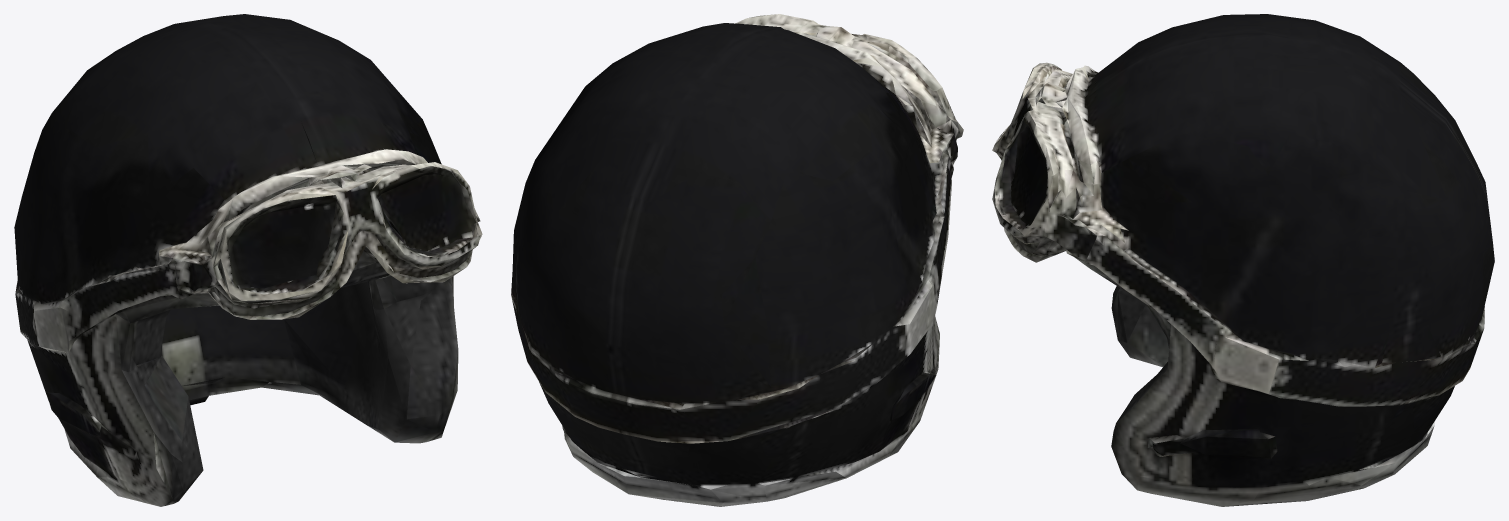
Rendered from aviator_helmet.glb.
3 views of the same model, side by side, from view 1: azimuth 30°, elevation 25°; view 2: azimuth 150°, elevation 25°; view 3: azimuth 270°, elevation 25° (orthographic). The views are drawn at different scales.
Parts seen in each view (by area): view 1: aviator_helmet; view 2: aviator_helmet; view 3: aviator_helmet.
Boxes of the visible parts, x1=… form: aviator_helmet: x1=14, y1=14, x2=482, y2=506; aviator_helmet: x1=511, y1=14, x2=963, y2=506; aviator_helmet: x1=992, y1=14, x2=1494, y2=506.
Size of the model in its own units: 2.4 by 2.41 by 2.69.
Materials: 1 (1 with a texture image).
